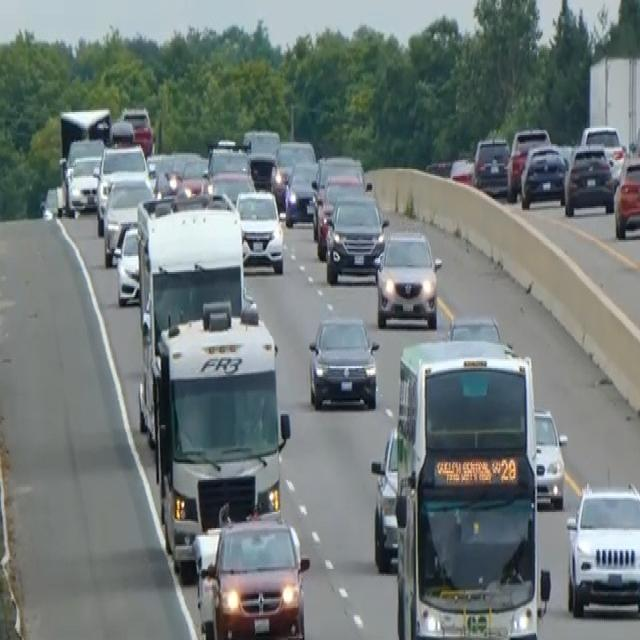bus: (392, 334, 549, 638), (152, 297, 290, 572), (135, 199, 251, 448)
car: (195, 505, 310, 638), (565, 480, 639, 619), (307, 313, 379, 411), (374, 227, 442, 329), (324, 190, 388, 284), (95, 140, 150, 233), (102, 172, 154, 265), (315, 170, 367, 258), (234, 186, 284, 274), (370, 425, 399, 572), (563, 142, 614, 215), (533, 406, 567, 510), (205, 137, 254, 203), (506, 126, 550, 199), (520, 142, 568, 208), (272, 137, 315, 206), (152, 150, 206, 198), (283, 158, 319, 226), (113, 222, 141, 306), (613, 151, 639, 238), (472, 135, 510, 194), (66, 153, 102, 213), (580, 123, 624, 169), (446, 311, 502, 343), (119, 103, 153, 155), (247, 149, 279, 194), (242, 126, 280, 155), (39, 183, 61, 221)
